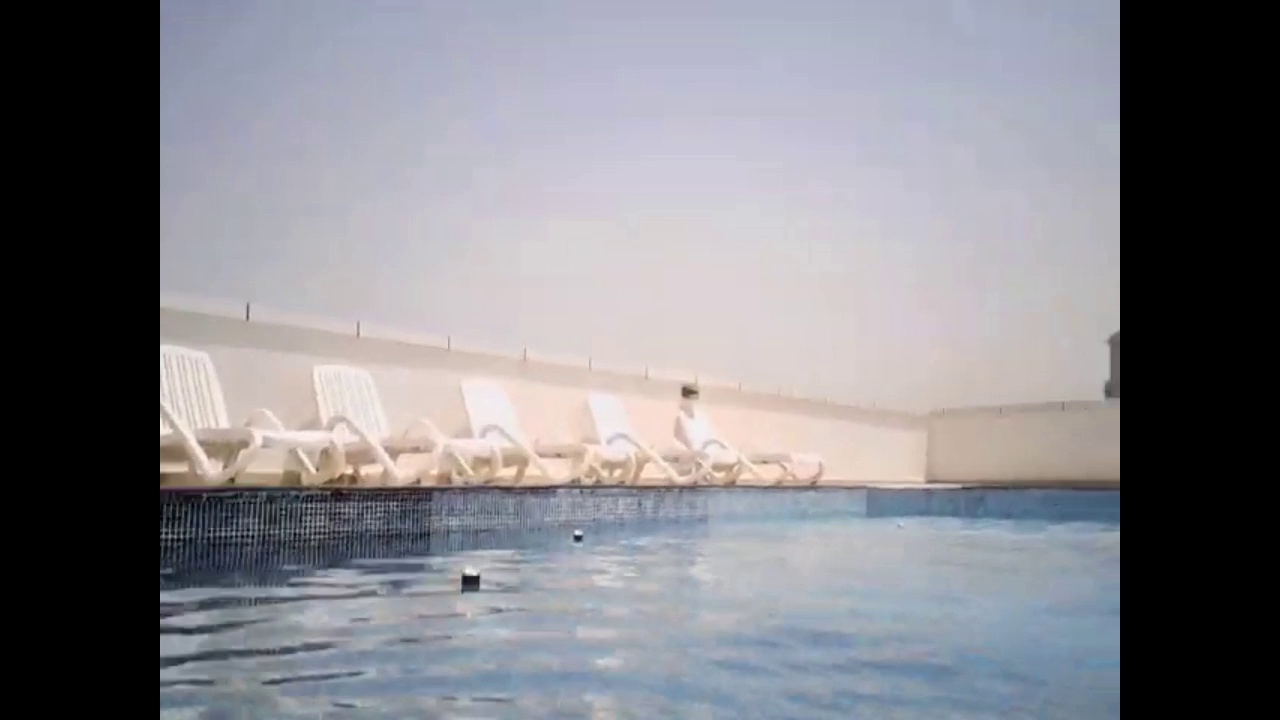debris: (454, 562, 485, 599), (566, 527, 586, 546), (894, 519, 905, 531)
